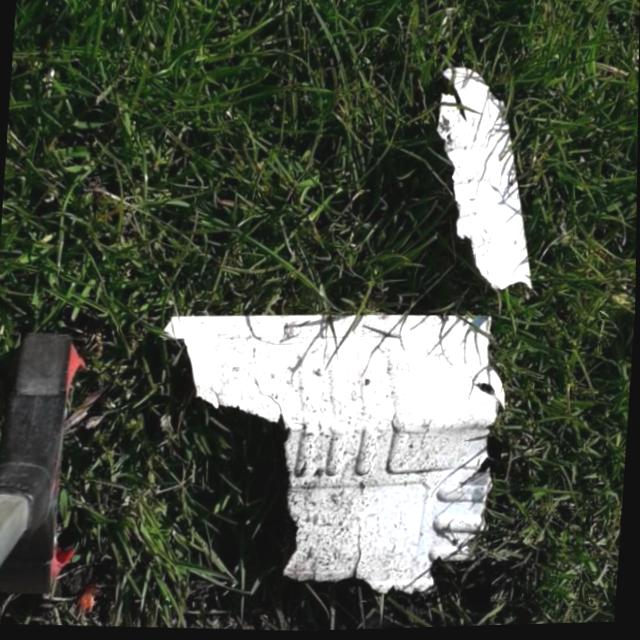Paper: (137, 292, 518, 613)
